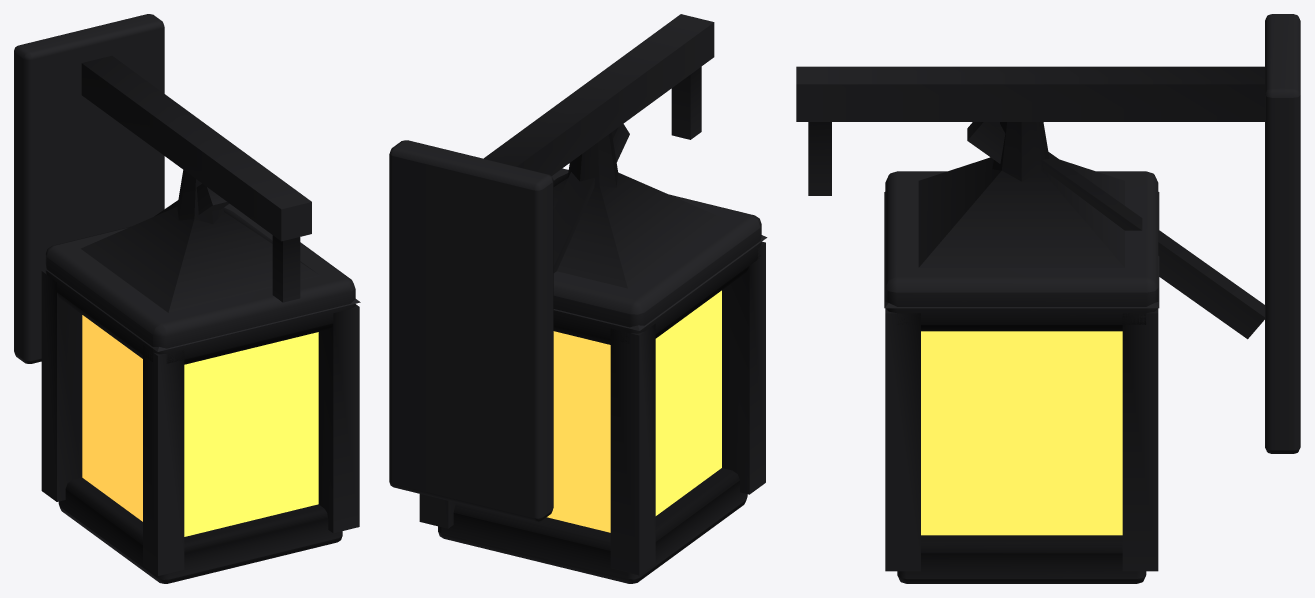
Rendered from wall_lantern.glb.
The picture shows the model from 3 angles, left to right: view 1: azimuth 30°, elevation 25°; view 2: azimuth 150°, elevation 25°; view 3: azimuth 270°, elevation 25°; orthographic projection. The views are drawn at different scales.
Parts seen in each view (by area): view 1: HeadGlass, Plate, HeadRim, HeadCap, Bracket, HeadBase, HeadRail0, HeadRail2, HeadRail1, Hook, HeadFinial, Brace; view 2: Plate, HeadGlass, HeadRim, Bracket, HeadBase, HeadCap, HeadRail1, HeadRail0, Brace, Hook, HeadFinial, HeadRail3; view 3: HeadGlass, Bracket, HeadRim, HeadCap, Plate, HeadBase, HeadRail3, HeadRail2, Brace, HeadFinial, Hook.
Boxes of the visible parts, x1,y1,x2,y2 form: HeadGlass: (82, 315, 318, 536); Plate: (14, 14, 164, 363); HeadRim: (45, 203, 355, 364); HeadCap: (40, 207, 360, 351); Bracket: (81, 55, 311, 241); HeadBase: (58, 477, 342, 583); HeadRail0: (143, 345, 184, 575); HeadRail2: (318, 304, 359, 533); HeadRail1: (41, 270, 82, 501); Hook: (272, 235, 300, 302); HeadFinial: (177, 170, 223, 224); Brace: (154, 183, 229, 216); Plate: (389, 140, 553, 521); HeadGlass: (547, 290, 721, 532); HeadRim: (552, 168, 761, 344); Bracket: (484, 14, 714, 175); HeadBase: (438, 468, 747, 583); HeadCap: (553, 172, 767, 330); HeadRail1: (610, 324, 655, 575); HeadRail0: (722, 241, 765, 494); Brace: (553, 124, 629, 272); Hook: (671, 66, 701, 139); HeadFinial: (567, 132, 618, 187); HeadRail3: (419, 494, 456, 528); HeadGlass: (921, 331, 1122, 535); Bracket: (796, 66, 1264, 121); HeadRim: (885, 171, 1158, 331); HeadCap: (884, 157, 1159, 308); Plate: (1265, 14, 1300, 453); HeadBase: (897, 535, 1146, 583); HeadRail3: (1122, 308, 1158, 571); HeadRail2: (885, 308, 920, 571); Brace: (967, 122, 1264, 339); HeadFinial: (992, 122, 1049, 181); Hook: (808, 122, 831, 195).
Bounding box in the file's own units: 0.2319 × 0.45 × 0.425.
